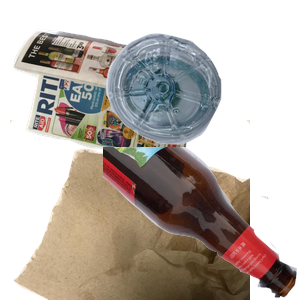glass: (103, 147, 300, 300)
paper: (11, 27, 213, 185)
plastic: (104, 31, 300, 168)
trash: (10, 120, 250, 300)
